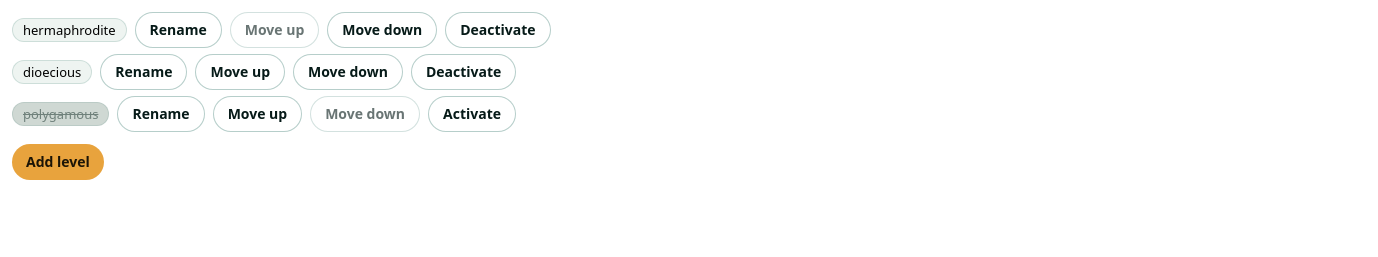
it: RFC-62 R6 LevelsEditor › refetches the dictionary even when the second PATCH of a move fails
The image size is (1378, 257).
Click the button named "Move down hermaphrodite" at [382, 30], box [327,12,437,48]
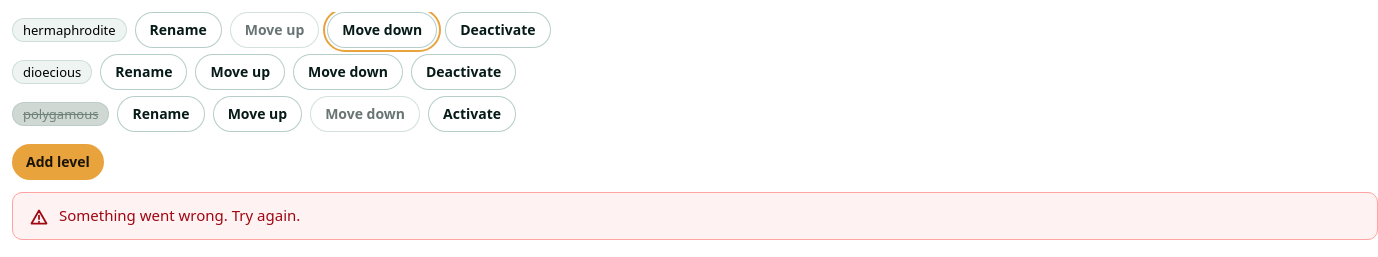
Now the message reads "Something went wrong. Try again.", box [59,205,300,225]
